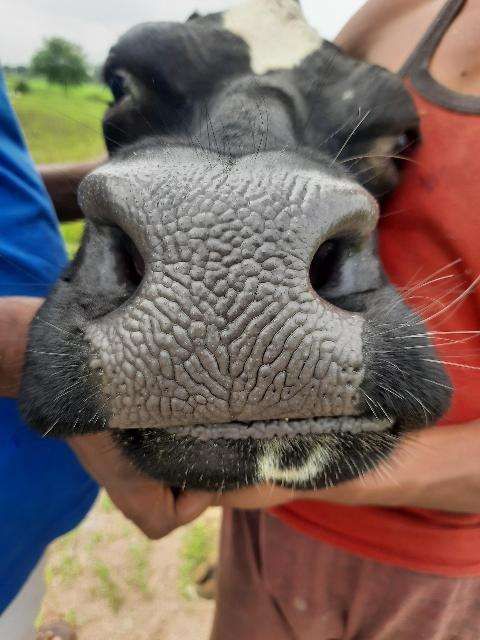Muzzle: (75, 166, 379, 434)
